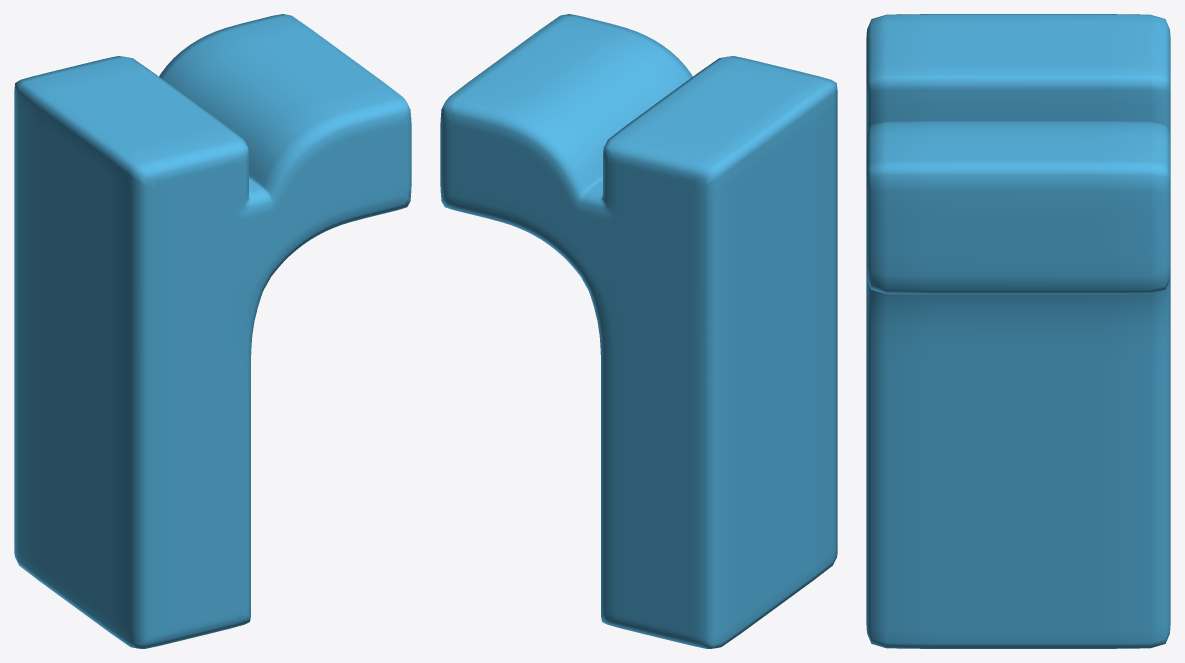
Rendered from r-DmKkpuUX.glb.
3 renders of one model, left to right at view 1: azimuth 30°, elevation 25°; view 2: azimuth 150°, elevation 25°; view 3: azimuth 270°, elevation 25°, orthographic. The views are drawn at different scales.
Visible parts, largest first — view 1: r; view 2: r; view 3: r.
Part boxes in pixels (<box>): r: <box>14,14,411,648</box>; r: <box>440,14,837,648</box>; r: <box>866,14,1170,648</box>.
Bounding box in the file's own units: 0.4997 × 0.835 × 0.4.
